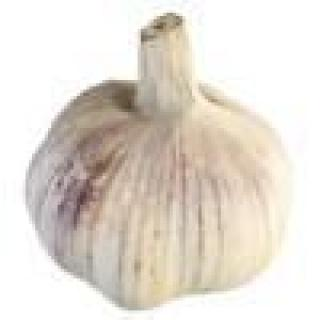Bawang Putih: (21, 14, 296, 302)
